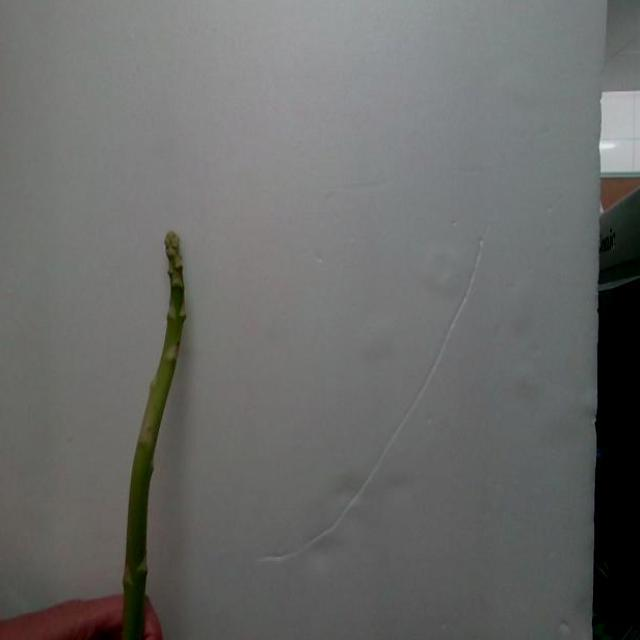aspargus: (120, 233, 188, 640)
